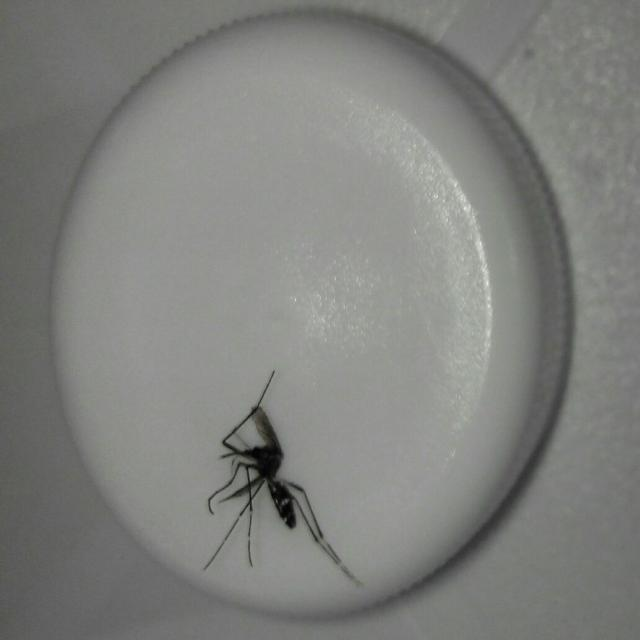albopictus: (193, 360, 360, 584)
